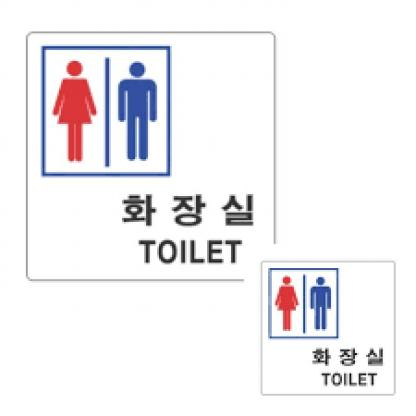toilet: (54, 59, 160, 166), (275, 273, 334, 335)
